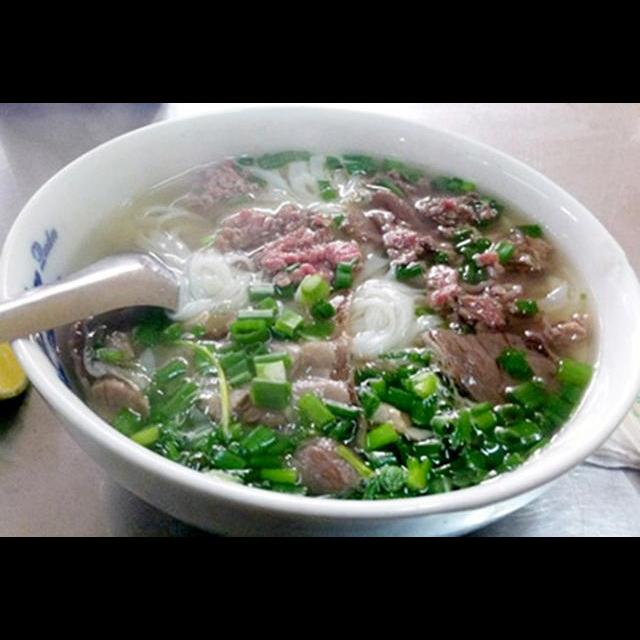banh pho: (138, 198, 276, 333), (335, 247, 438, 382), (243, 146, 346, 214)
pho bo: (43, 128, 640, 537)
thit bo: (188, 284, 370, 453), (419, 311, 601, 418), (346, 163, 475, 291), (204, 196, 365, 296), (410, 188, 558, 284), (53, 310, 159, 431), (427, 261, 540, 344), (283, 431, 379, 504)
